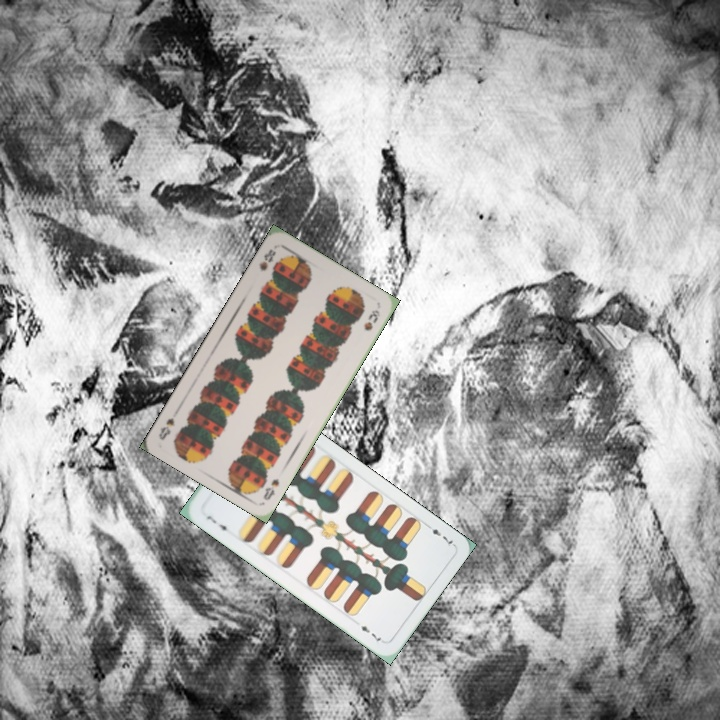E7: (203, 511, 232, 536), (428, 525, 457, 549)
S8: (254, 245, 279, 274), (259, 474, 282, 503)
